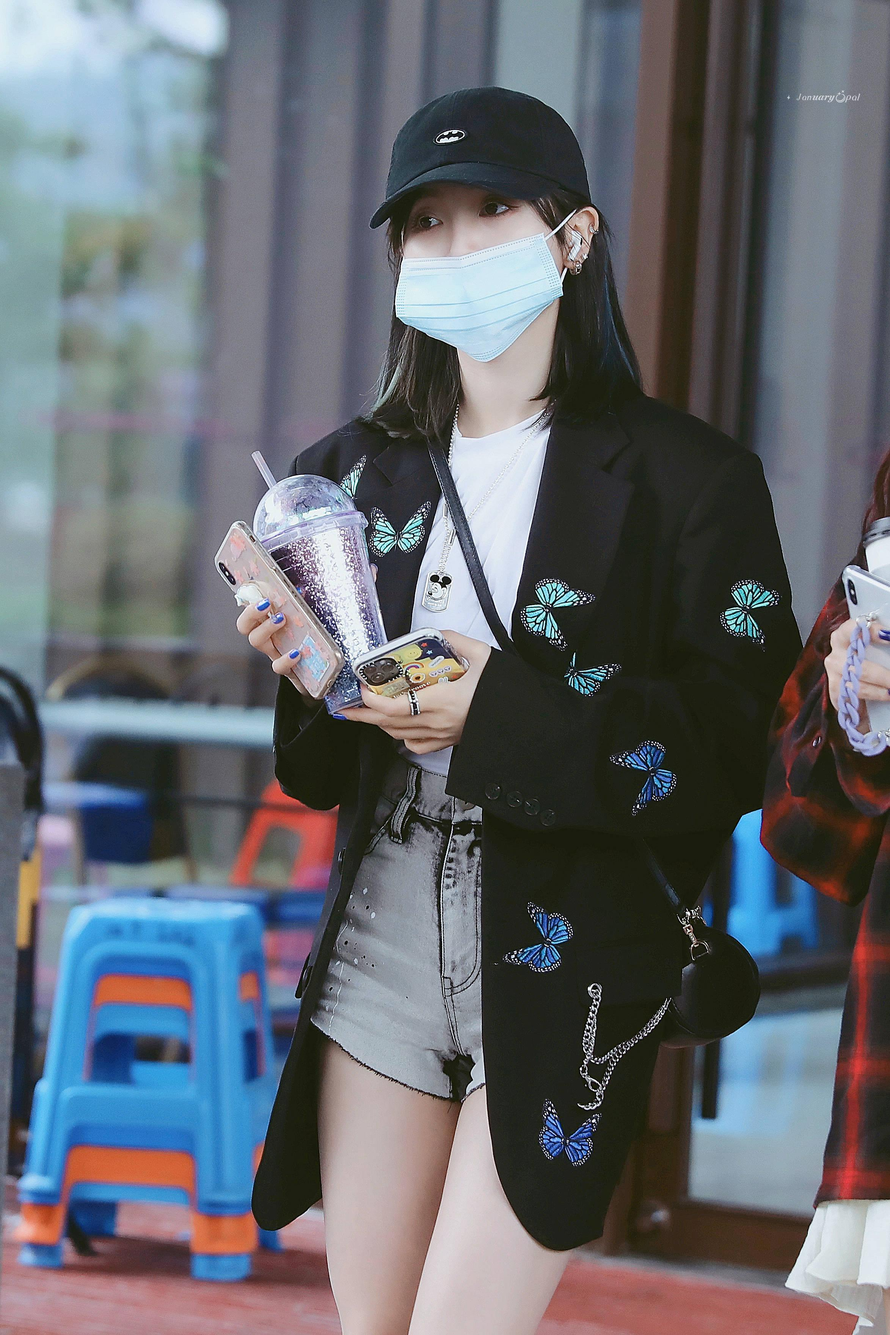WRONG: (397, 163, 549, 361)
